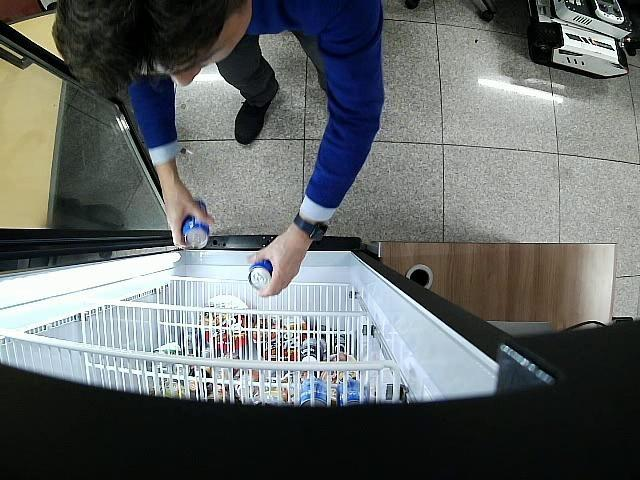13_pocariSweat: (182, 199, 210, 249), (248, 260, 272, 290)
